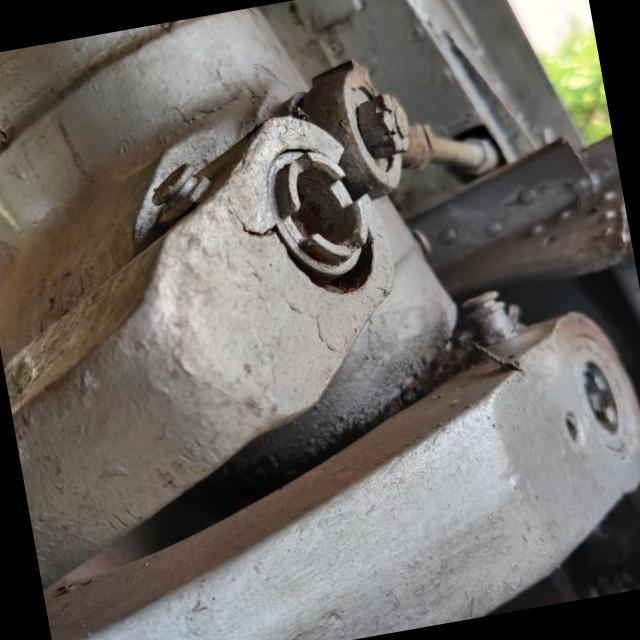Rupture: (229, 202, 284, 250)
